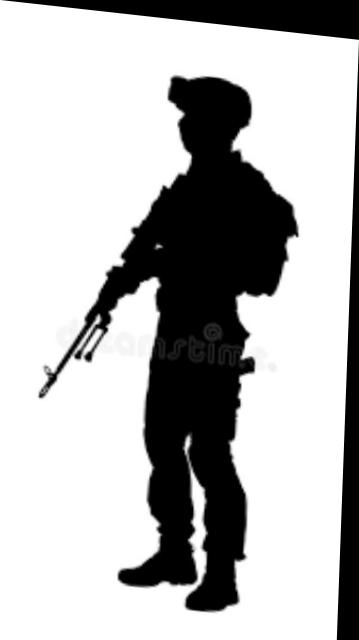other: (107, 53, 306, 614)
